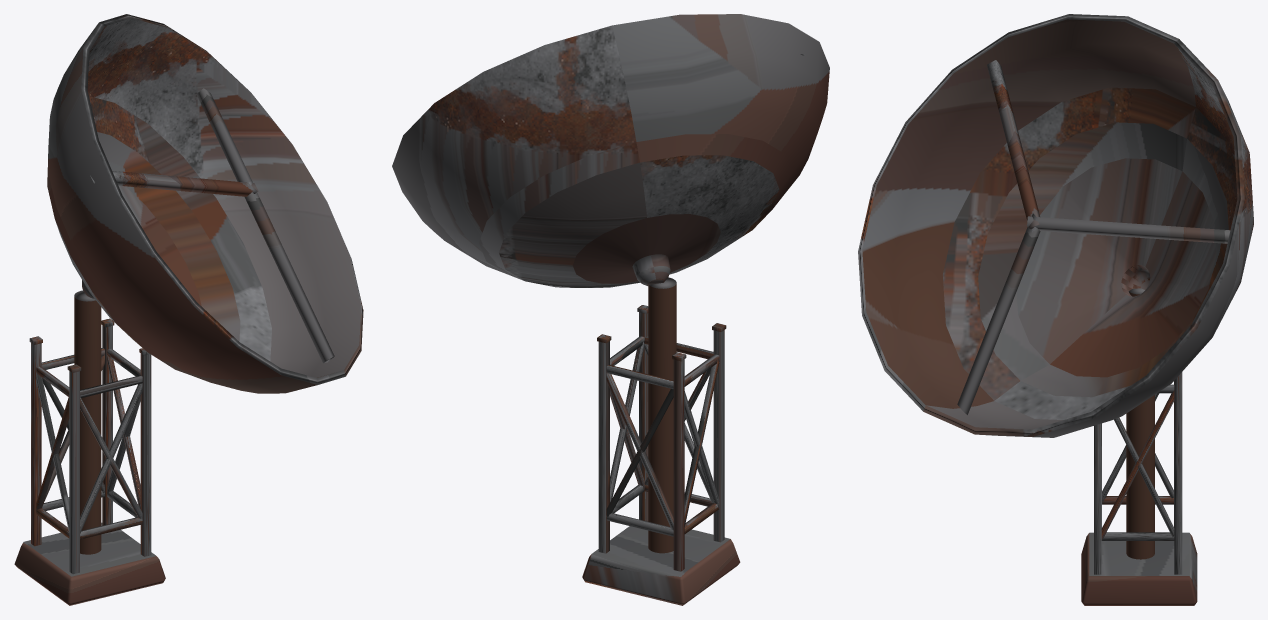
File: Parabole.fbx
3 renders of one model, left to right at view 1: azimuth 30°, elevation 25°; view 2: azimuth 150°, elevation 25°; view 3: azimuth 270°, elevation 25°, orthographic. The views are drawn at different scales.
Visible parts, largest first — view 1: polySurface1246; view 2: polySurface1246; view 3: polySurface1246.
Part boxes in pixels (x1=…): polySurface1246: x1=14, y1=14, x2=363, y2=605; polySurface1246: x1=392, y1=14, x2=829, y2=605; polySurface1246: x1=858, y1=14, x2=1253, y2=605.
Bounding box in the file's own units: 3.96 × 6.38 × 4.09.
